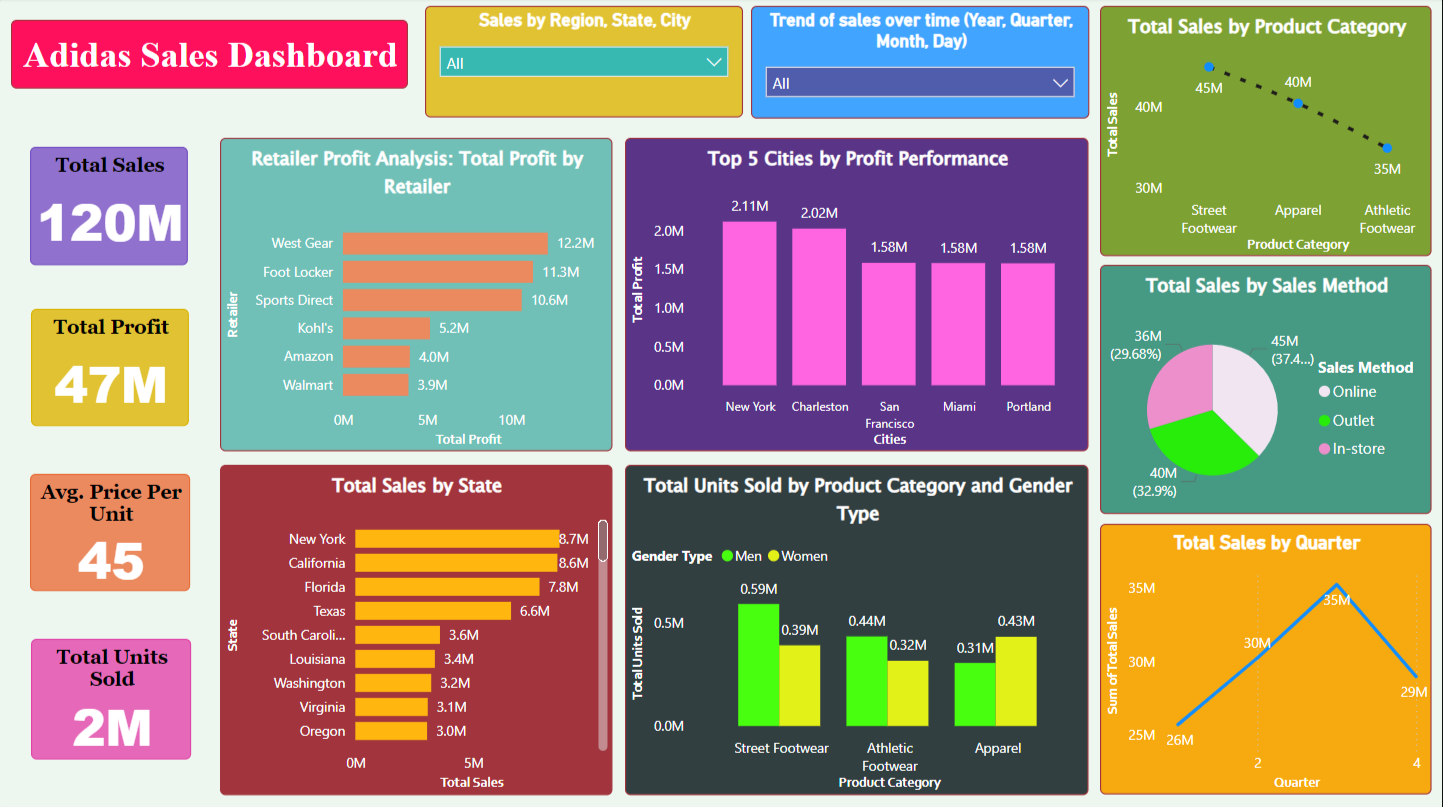

The page's visual inventory and layout, read from the dashboard file:
{"tool":"powerbi","page":{"name":"Adidas Sales Dashboard","canvas":[1280,720],"ordinal":0},"visuals":[{"type":"card","title":"Total Sales","fields":{"Values":["Sum(Table 1 (Sales_details).Total Sales)"]},"box":[18.1,124.6,141.6,104.2],"z":0},{"type":"textbox","box":[10.6,19.5,352,61.2],"z":1000},{"type":"card","title":"Avg. Price Per Unit","fields":{"Values":["Avg(Table 1 (Sales_details).Price per Unit)"]},"box":[18.1,413.6,141.6,104.2],"z":2000},{"type":"card","title":"Total Profit","fields":{"Values":["Sum(Table 1 (Sales_details).Operating Profit)"]},"box":[18.1,264,141.6,104.2],"z":3000},{"type":"card","title":"Total Units Sold","fields":{"Values":["Sum(Table 1 (Sales_details).Units Sold)"]},"box":[18.1,560.9,141.6,106.5],"z":4000},{"type":"barChart","title":"Retailer Profit Analysis: Total Profit by Retailer","fields":{"Category":["Table 1 (Sales_details).Retailer"],"Y":["Sum(Table 1 (Sales_details).Operating Profit)"]},"box":[177.9,125.8,347.9,277.6],"z":5000},{"type":"pieChart","title":"Total Sales by Product Category","fields":{"Category":["Table 1 (Sales_details).Product Category"],"Y":["Sum(Table 1 (Sales_details).Total Sales)"]},"box":[925.8,6.8,344.5,222.1],"z":6000},{"type":"clusteredColumnChart","title":"Total Sales by Product Category and Gender Type","fields":{"Category":["Table 1 (Sales_details).Product Category"],"Series":["Table 1 (Sales_details).Gender Type"],"Y":["Sum(Table 1 (Sales_details).Total Sales)"]},"box":[536,414.7,377.3,293.5],"z":7000},{"type":"pieChart","title":"Total Sales by Sales Method","fields":{"Category":["Table 1 (Sales_details).Sales Method"],"Y":["Sum(Table 1 (Sales_details).Total Sales)"]},"box":[925.8,236.8,344.5,221],"z":8000},{"type":"barChart","title":"Total Sales by State","fields":{"Category":["Sales_details.State"],"Y":["Sum(Sales_details.Total Sales)"]},"box":[177.9,413.6,347.9,293.5],"z":9000},{"type":"clusteredBarChart","title":"Top 5 Cities by Profit Performance","fields":{"Category":["Sales_details.City"],"Y":["Sum(Sales_details.Operating Profit)"]},"box":[536,124.6,377.3,278.7],"z":10000},{"type":"areaChart","title":"Total Sales by Quarter","fields":{"Category":["Sales_details.Quarter"],"Y":["Sum(Sales_details.Total Sales)"]},"box":[925.8,468,344.5,240.2],"z":11000},{"type":"slicer","title":"Region, State, City","fields":{"Values":["Sales_details.Region Hierarchy.Region","Sales_details.Region Hierarchy.State","Sales_details.Region Hierarchy.City"]},"box":[376.2,6.8,264,99.7],"z":12000},{"type":"slicer","title":"Year, Quarter, Month, Day","fields":{"Values":["Sales_details.Invoice Date Hierarchy.Year","Sales_details.Invoice Date Hierarchy.Quarter","Sales_details.Invoice Date Hierarchy.Month","Sales_details.Invoice Date Hierarchy.Day"]},"box":[652.7,6.8,260.6,99.7],"z":13000}]}

Visuals, with their boxes in screenshot pixels (x1, y1, x2, y2), scaled from the page's 1280x720 canvas onto the 1443x807 screenshot:
"Total Sales" card: (20, 140, 180, 256)
textbox: (12, 22, 409, 90)
"Avg. Price Per Unit" card: (20, 464, 180, 580)
"Total Profit" card: (20, 296, 180, 413)
"Total Units Sold" card: (20, 629, 180, 748)
"Retailer Profit Analysis: Total Profit by Retailer" barChart: (201, 141, 593, 452)
"Total Sales by Product Category" pieChart: (1044, 8, 1432, 257)
"Total Sales by Product Category and Gender Type" clusteredColumnChart: (604, 465, 1030, 794)
"Total Sales by Sales Method" pieChart: (1044, 265, 1432, 513)
"Total Sales by State" barChart: (201, 464, 593, 793)
"Top 5 Cities by Profit Performance" clusteredBarChart: (604, 140, 1030, 452)
"Total Sales by Quarter" areaChart: (1044, 525, 1432, 794)
"Region, State, City" slicer: (424, 8, 722, 119)
"Year, Quarter, Month, Day" slicer: (736, 8, 1030, 119)
